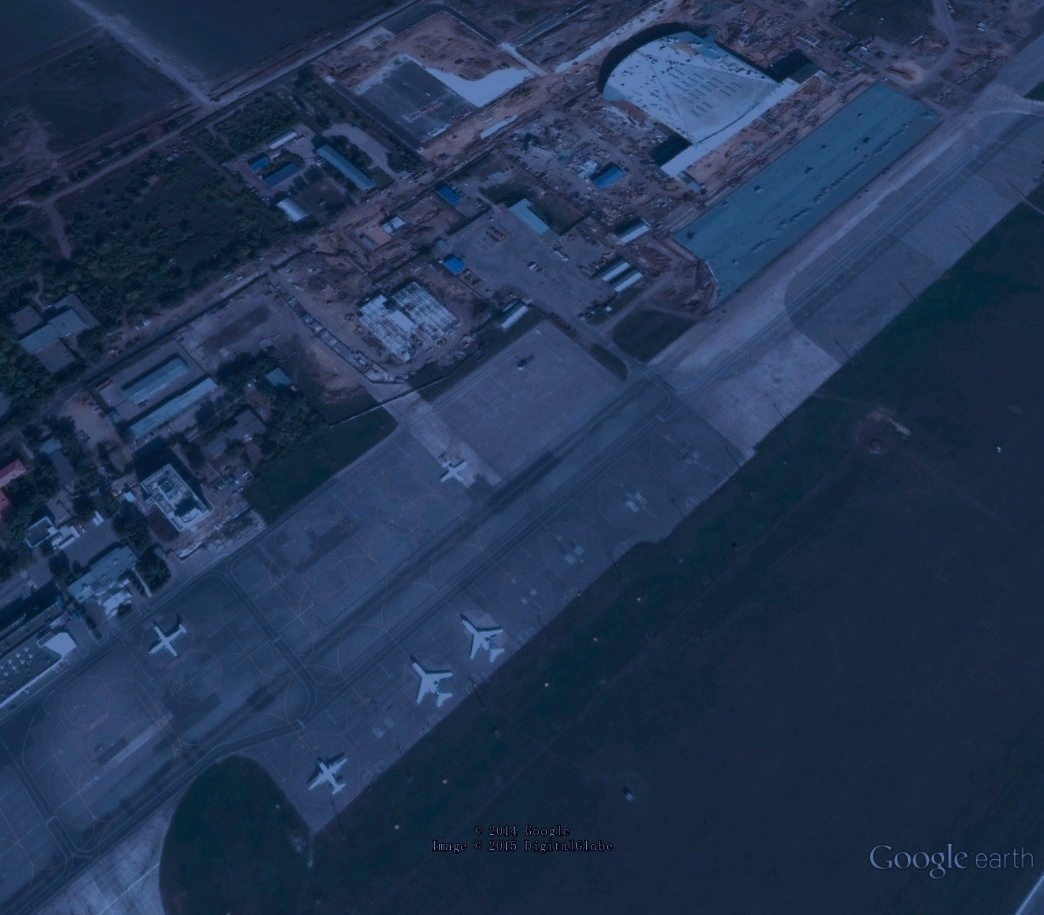aircraft: (409, 655, 457, 711), (459, 618, 511, 667), (307, 753, 354, 799), (145, 619, 192, 664), (441, 457, 472, 487)
